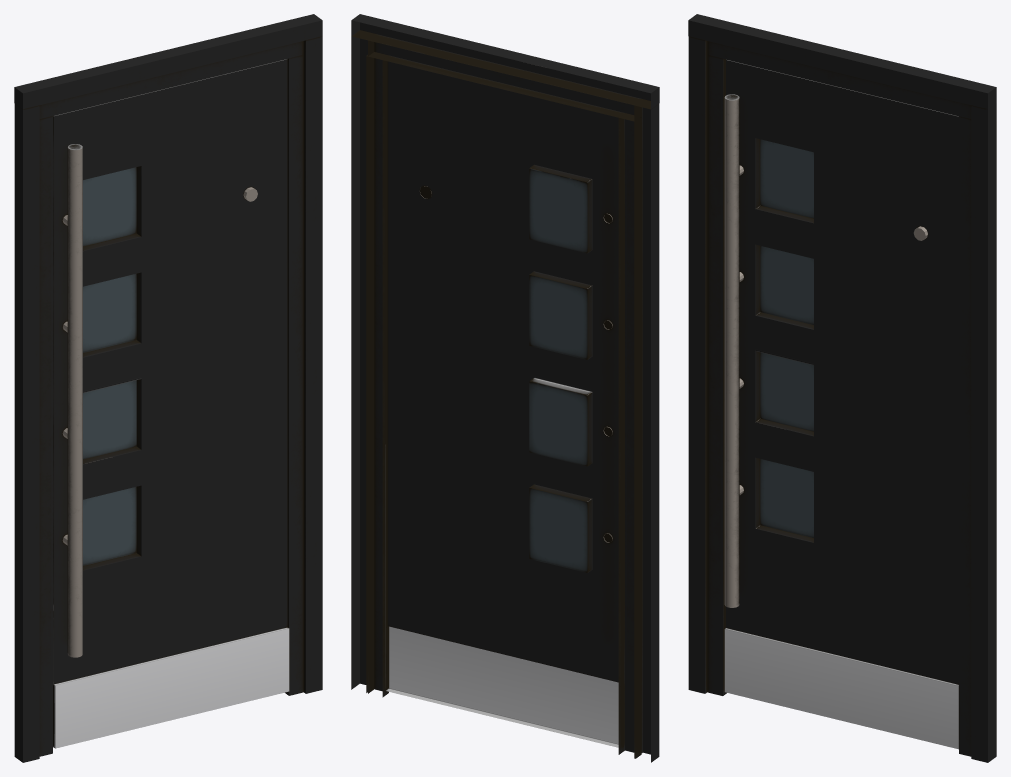
Rendered from door_modfront.glb.
The picture shows the model from 3 angles, left to right: view 1: azimuth 30°, elevation 25°; view 2: azimuth 150°, elevation 25°; view 3: azimuth 330°, elevation 25°; orthographic projection.
Parts seen in each view (by area): view 1: polySurface98; view 2: polySurface98; view 3: polySurface98.
Part boxes in pixels (<box>): polySurface98: <box>14,14,322,762</box>; polySurface98: <box>351,14,659,762</box>; polySurface98: <box>688,14,996,762</box>.
Size of the model in its own units: 1.07 by 2.27 by 0.1016.
2 materials, 2 textured.
